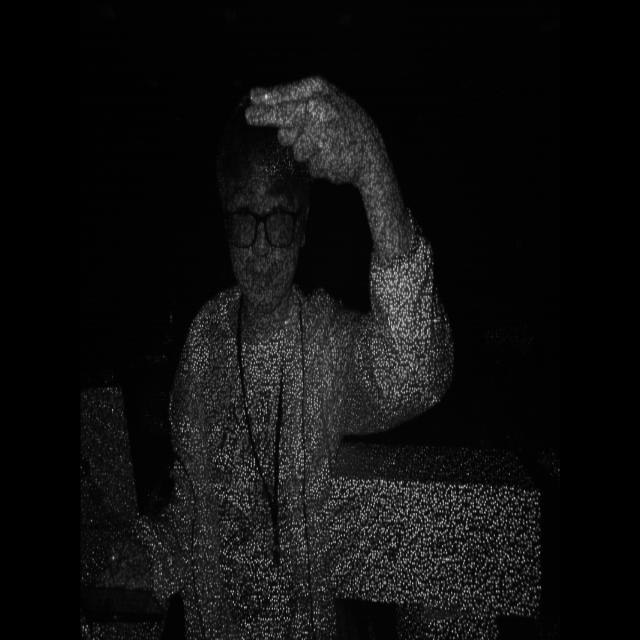G: (242, 65, 465, 192)
